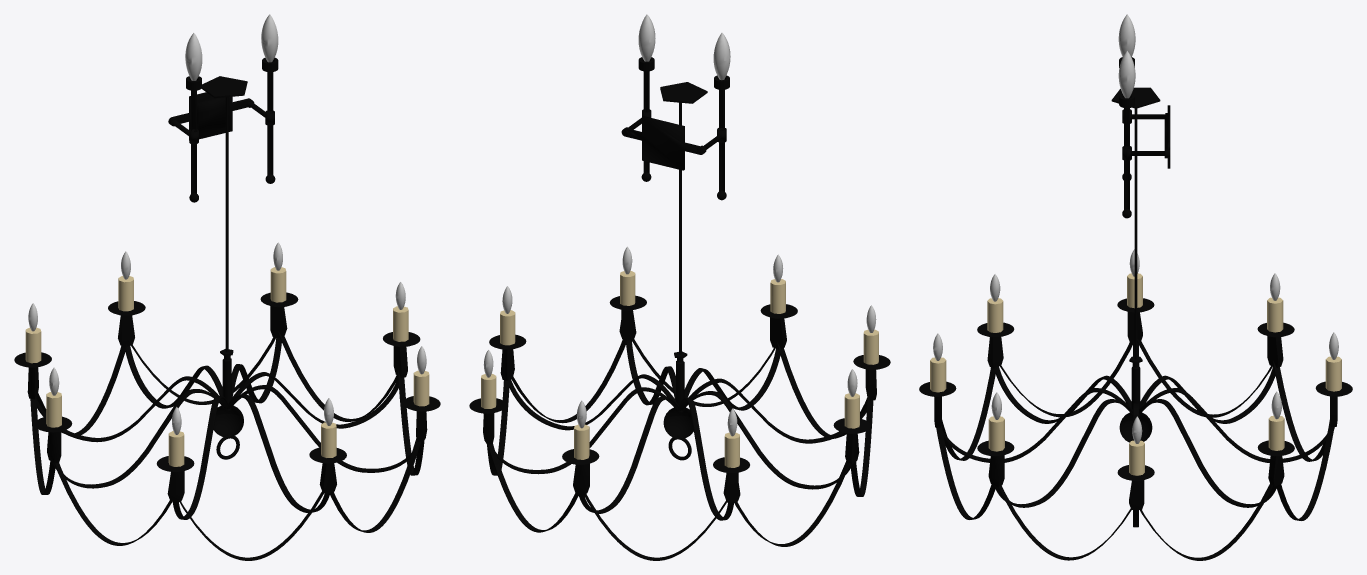
File: Chandelier.fbx
3 renders of one model, left to right at view 1: azimuth 30°, elevation 25°; view 2: azimuth 150°, elevation 25°; view 3: azimuth 270°, elevation 25°, orthographic.
Parts seen in each view (by area): view 1: Sconce, Base_and_Line, Candle_Base_4, Candle_Base_8, Candle_Base_3, Candle_Base_7, Candle_Base_5, Candle_Base, Candle_2, Candle_Base_2, Candle_Base_6, Sweep_1_3_2 (+15 smaller); view 2: Sconce, Base_and_Line, Candle_Base_7, Candle_Base_6, Candle_Base_3, Candle_Base_2, Candle_Base_5, Candle_2, Candle_Base, Candle_Base_8, Candle_Base_4, Sweep_1_7_2 (+15 smaller); view 3: Base_and_Line, Sconce, Candle_Base_2, Candle_Base_6, Candle_Base_8, Candle_Base, Candle_Base_4, Candle_2, Candle_Base_5, Candle_Base_7, Candle_Base_3, Sweep_1_8 (+13 smaller).
Part boxes in pixels (<box>): Sconce: <box>168,57,278,202</box>; Base_and_Line: <box>201,76,247,459</box>; Candle_Base_4: <box>156,431,194,502</box>; Candle_Base_8: <box>260,267,298,337</box>; Candle_Base_3: <box>309,422,346,493</box>; Candle_Base_7: <box>108,276,145,347</box>; Candle_Base_5: <box>34,392,72,463</box>; Candle_Base: <box>383,306,420,378</box>; Candle_2: <box>185,14,278,80</box>; Candle_Base_2: <box>403,370,440,442</box>; Candle_Base_6: <box>14,327,51,399</box>; Sweep_1_3_2: <box>225,394,330,512</box>; Sconce: <box>621,57,729,200</box>; Base_and_Line: <box>660,82,707,460</box>; Candle_Base_7: <box>562,424,599,494</box>; Candle_Base_6: <box>713,432,749,502</box>; Candle_Base_3: <box>760,279,797,349</box>; Candle_Base_2: <box>609,270,646,340</box>; Candle_Base_5: <box>833,393,870,464</box>; Candle_2: <box>638,14,730,80</box>; Candle_Base: <box>489,310,526,380</box>; Candle_Base_8: <box>469,374,506,444</box>; Candle_Base_4: <box>853,329,890,400</box>; Sweep_1_7_2: <box>578,396,682,513</box>; Base_and_Line: <box>1111,87,1160,442</box>; Sconce: <box>1119,57,1170,218</box>; Candle_Base_2: <box>977,416,1014,486</box>; Candle_Base_6: <box>1257,297,1294,367</box>; Candle_Base_8: <box>1257,415,1294,486</box>; Candle_Base: <box>1117,440,1154,509</box>; Candle_Base_4: <box>977,298,1014,368</box>; Candle_2: <box>1118,14,1135,98</box>; Candle_Base_5: <box>1117,273,1154,342</box>; Candle_Base_7: <box>1315,356,1352,426</box>; Candle_Base_3: <box>919,357,956,427</box>; Sweep_1_8: <box>1139,399,1277,507</box>.
Bounding box in the file's own units: 36.27 × 42.01 × 36.27.
